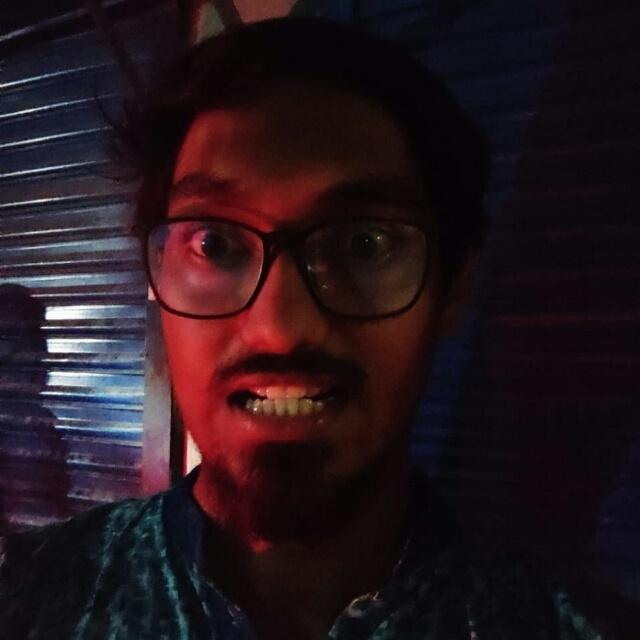Angry: (123, 79, 478, 532)
